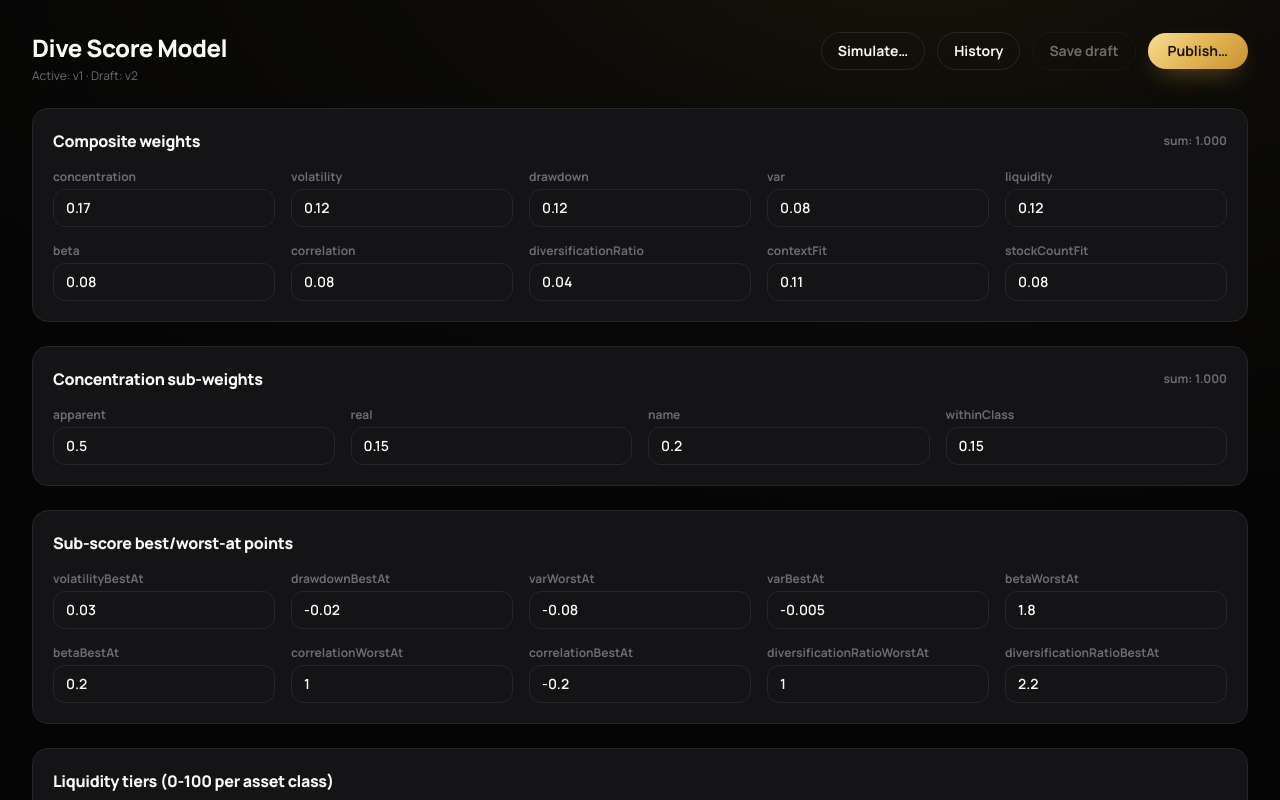
Test case: ScoringModel › toggling History shows the history panel wired to rollback
Later steps or results of the test are not shown.
What coordinates should you click on to do the following:
click the button with test id "admin-config-history-toggle-btn"
I would click on:
 (979, 51)
Its box is [937,32,1020,70].
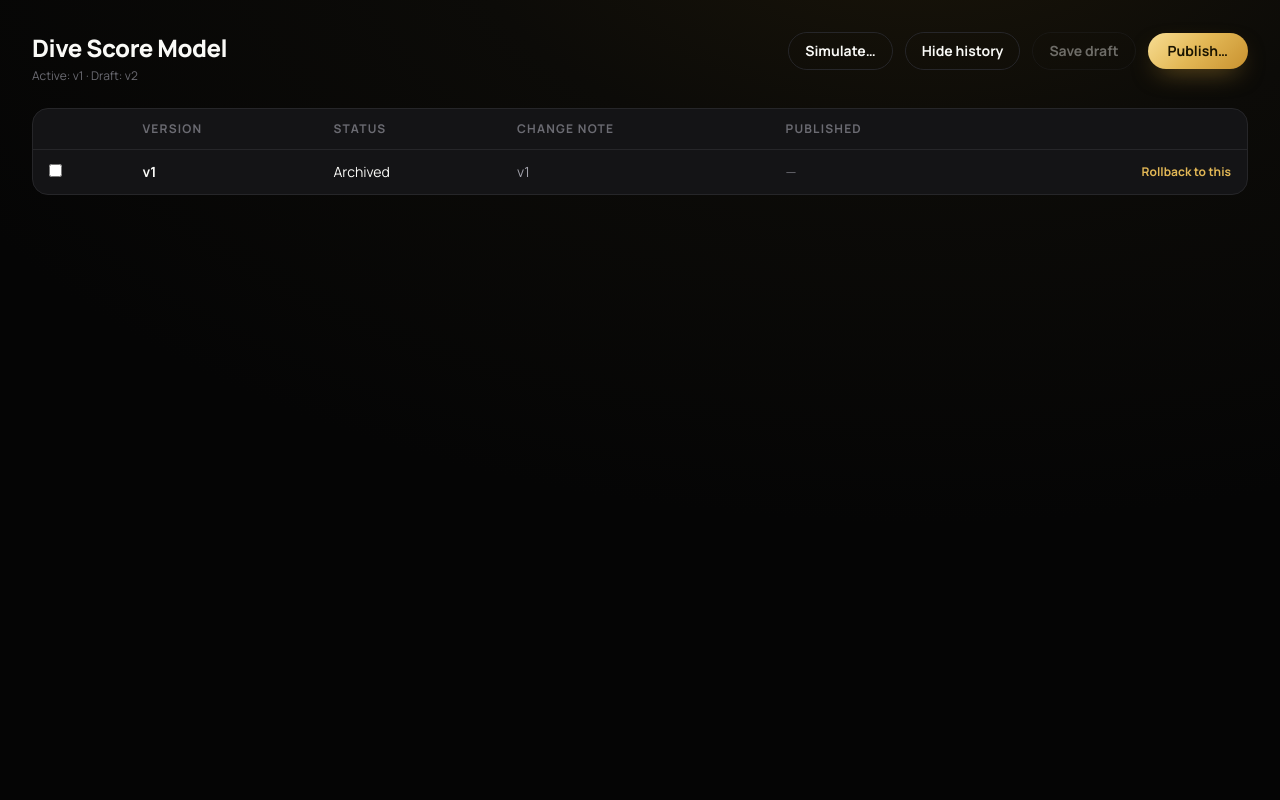
Expected: the element with test id "admin-config-history" is shown, [32,108,1248,195]
